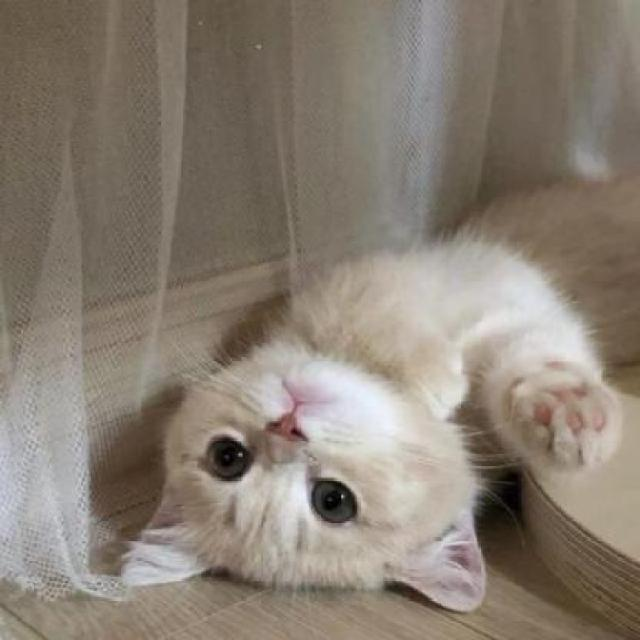cat: (126, 238, 631, 612)
